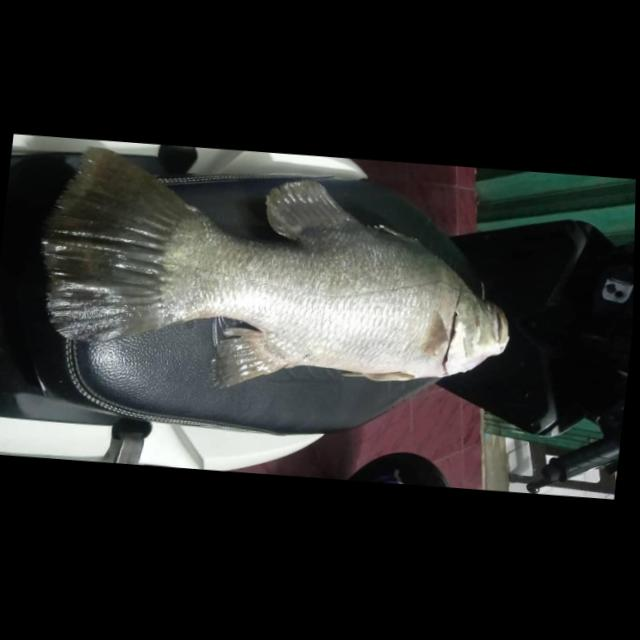Seabass: (24, 135, 530, 416)
